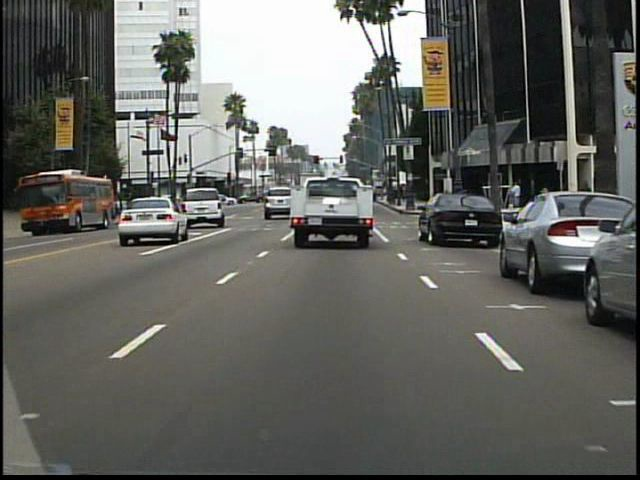person: (511, 178, 524, 200)
